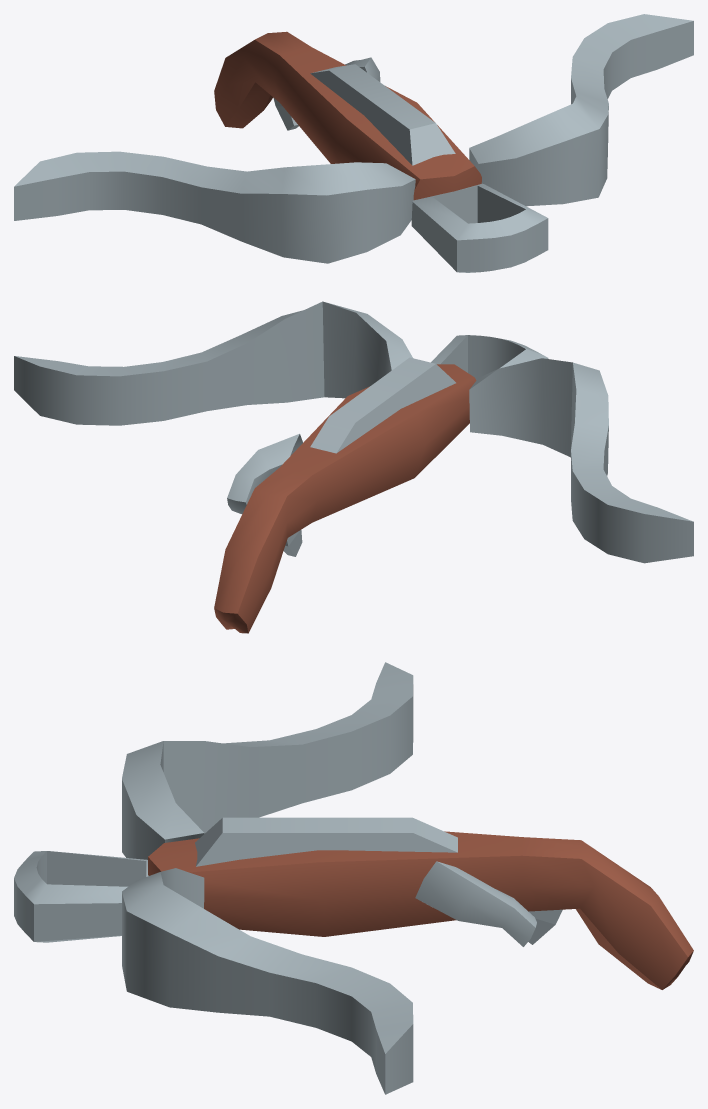
Rendered from bow.gltf.
The picture shows the model from 3 angles, top to bottom: view 1: azimuth 30°, elevation 25°; view 2: azimuth 150°, elevation 25°; view 3: azimuth 270°, elevation 25°; orthographic projection. The views are drawn at different scales.
Parts seen in each view (by area): view 1: crossbow_uncommon; view 2: crossbow_uncommon; view 3: crossbow_uncommon.
Part boxes in pixels (x1=…): crossbow_uncommon: x1=14, y1=14, x2=693, y2=272; crossbow_uncommon: x1=14, y1=301, x2=693, y2=633; crossbow_uncommon: x1=14, y1=662, x2=693, y2=1094.
Size of the model in its own units: 1.04 by 0.2099 by 0.7586.
